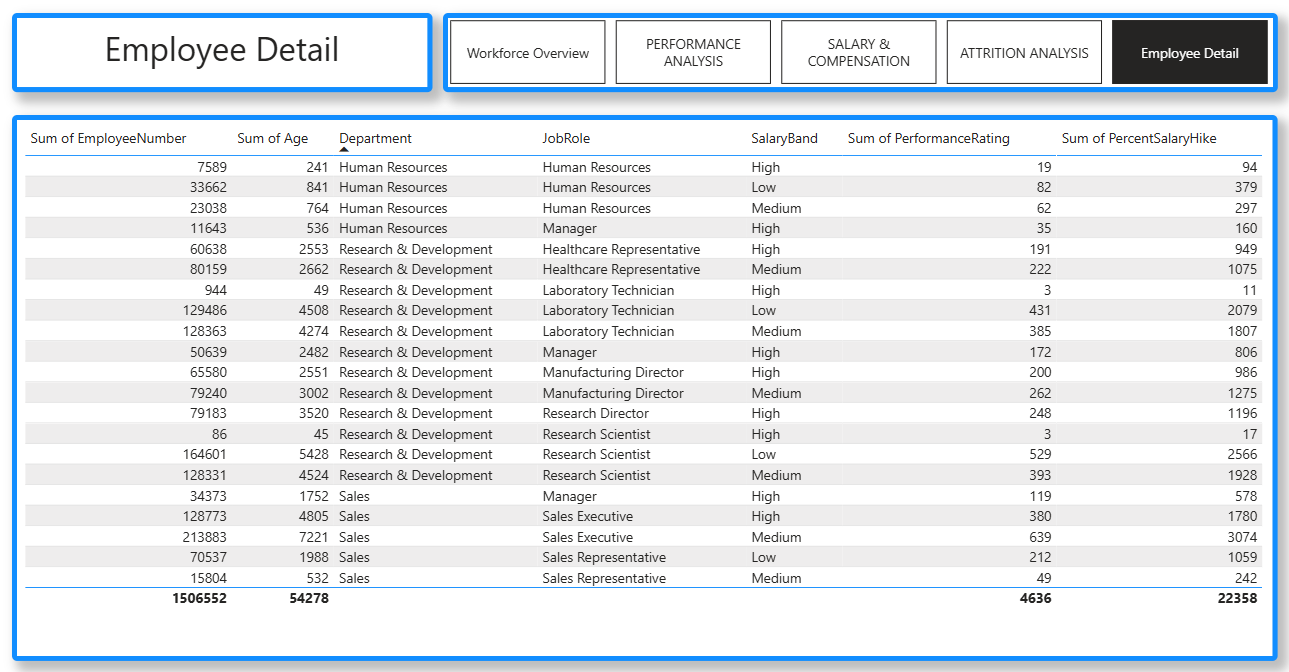

Layout of this report page (visuals, bound fields, positions):
{"tool":"powerbi","page":{"name":"Employee Detail","canvas":[1280,720],"ordinal":4},"visuals":[{"type":"tableEx","fields":{"Values":["Sum(FactEmployee.EmployeeNumber)","Sum(FactEmployee.Age)","DimDepartment.Department","DimJobRole.JobRole","FactEmployee.SalaryBand","Sum(FactEmployee.PerformanceRating)","Sum(FactEmployee.PercentSalaryHike)"]},"box":[22.4,106,1231.4,531.1],"z":0},{"type":"textbox","box":[22.4,6.8,408.5,76.8],"z":1},{"type":"pageNavigator","box":[441.6,6.8,812.2,76.8],"z":2}]}

Visuals, with their boxes on the page's 1280x720 design canvas (x1, y1, x2, y2). These are canvas units, not pixel positions in the 1289x672 screenshot, which may show the page scaled, cropped or inside an application window:
tableEx - Sum(FactEmployee.EmployeeNumber) x Sum(FactEmployee.Age): x1=22 y1=106 x2=1254 y2=637
textbox: x1=22 y1=7 x2=431 y2=84
pageNavigator: x1=442 y1=7 x2=1254 y2=84
